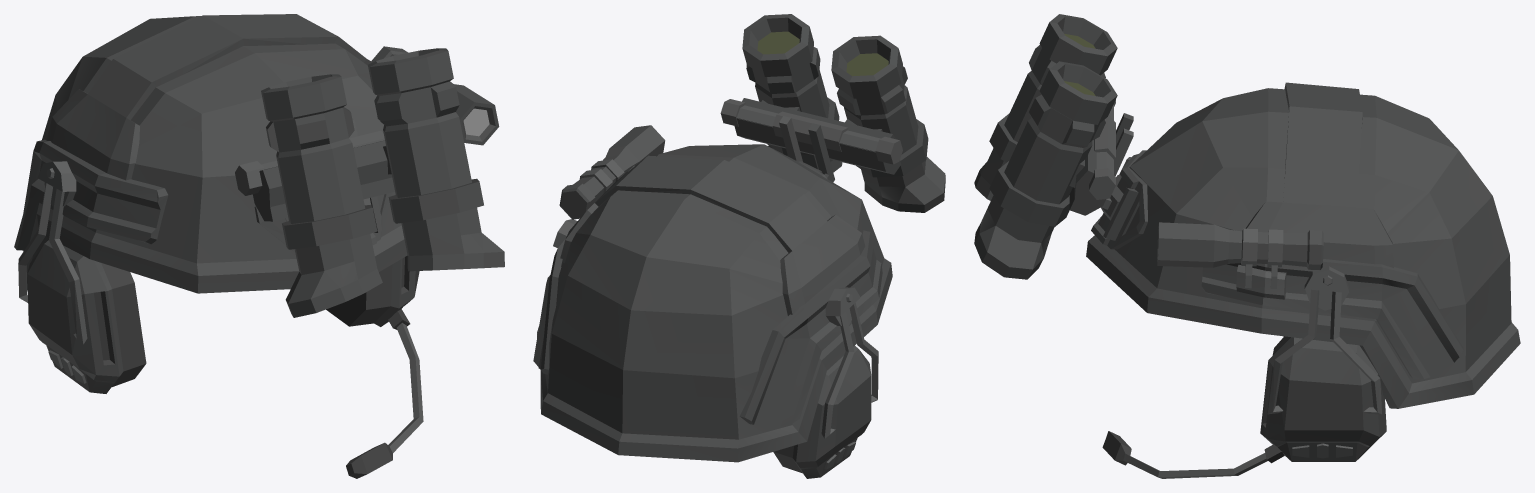
The model's file is Helmet_01_02_SM.FBX.
The picture shows the model from 3 angles, left to right: view 1: azimuth 30°, elevation 25°; view 2: azimuth 150°, elevation 25°; view 3: azimuth 270°, elevation 25°; orthographic projection. The views are drawn at different scales.
Visible parts, largest first — view 1: Helmet_01_02_SM; view 2: Helmet_01_02_SM; view 3: Helmet_01_02_SM.
Boxes of the visible parts, box(x1,y1,x2,y2) form: Helmet_01_02_SM: box(14, 14, 504, 478); Helmet_01_02_SM: box(533, 14, 945, 478); Helmet_01_02_SM: box(974, 14, 1520, 478).
Size of what is drawn, in the model's own units: 26.66 by 38.15 by 30.7.
